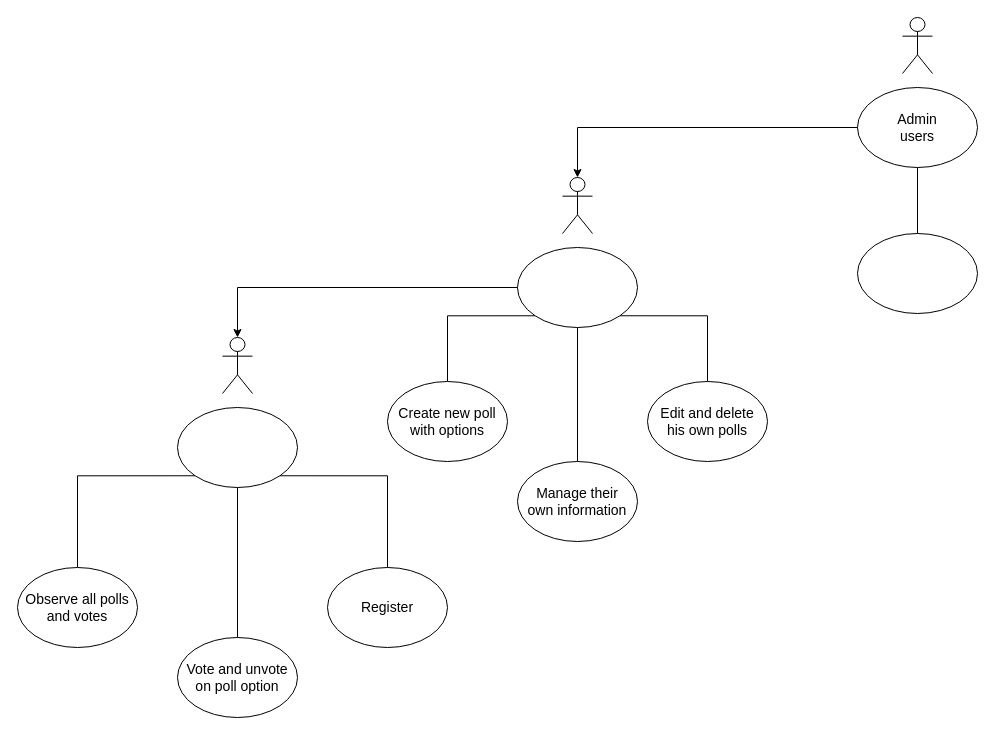
Image size: 995x735. Some labels were removed from this diagram. The centre of each missing label's shape, as x and y in pixels:
"Anonymous users" goes at point (237, 447).
"Manage users" goes at point (917, 273).
"Registered users" goes at point (577, 287).
